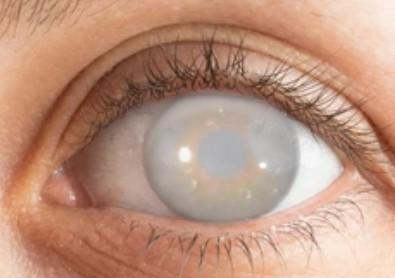eye: (145, 92, 301, 223)
